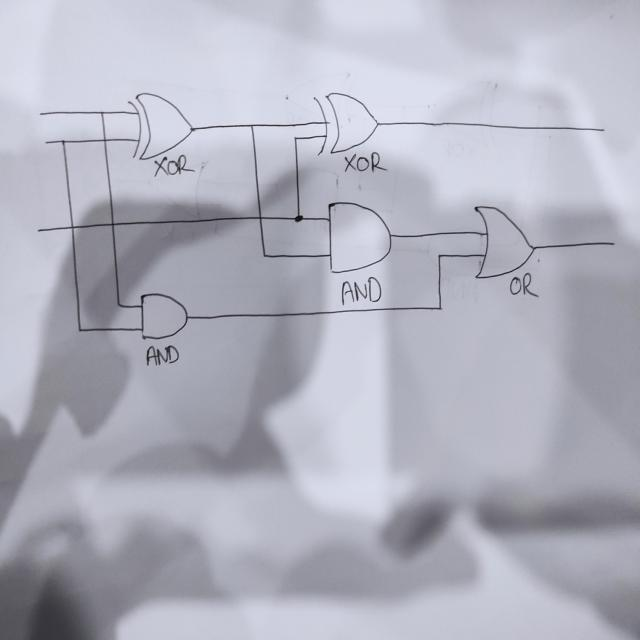crossover: (66, 221, 78, 232), (108, 218, 117, 229), (100, 134, 108, 144), (256, 213, 265, 221)
junction: (434, 300, 445, 314), (293, 211, 304, 224), (434, 249, 444, 263), (246, 120, 256, 131), (114, 298, 123, 310), (75, 324, 84, 335), (260, 250, 268, 259), (292, 134, 299, 142), (98, 108, 105, 116), (59, 137, 66, 145)
terminal: (602, 236, 622, 253), (596, 124, 608, 135), (37, 108, 45, 119), (34, 226, 42, 234), (42, 138, 49, 146)
text: (338, 276, 382, 306), (152, 152, 196, 177), (142, 341, 182, 368), (343, 151, 387, 175), (508, 271, 539, 300)
